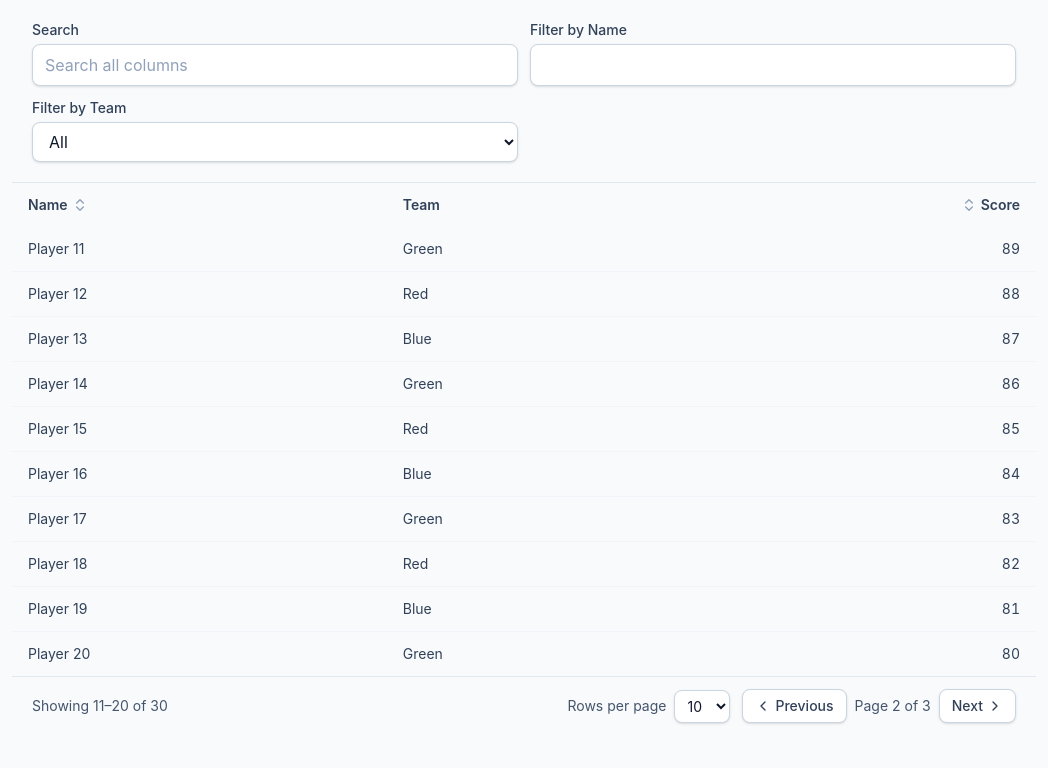
Test case: DataTable › returns to page 1 when a select filter changes
Select "Blue" in the dropdown labelled "Filter by Team". click: (275, 142)
box: [32,122,518,162]
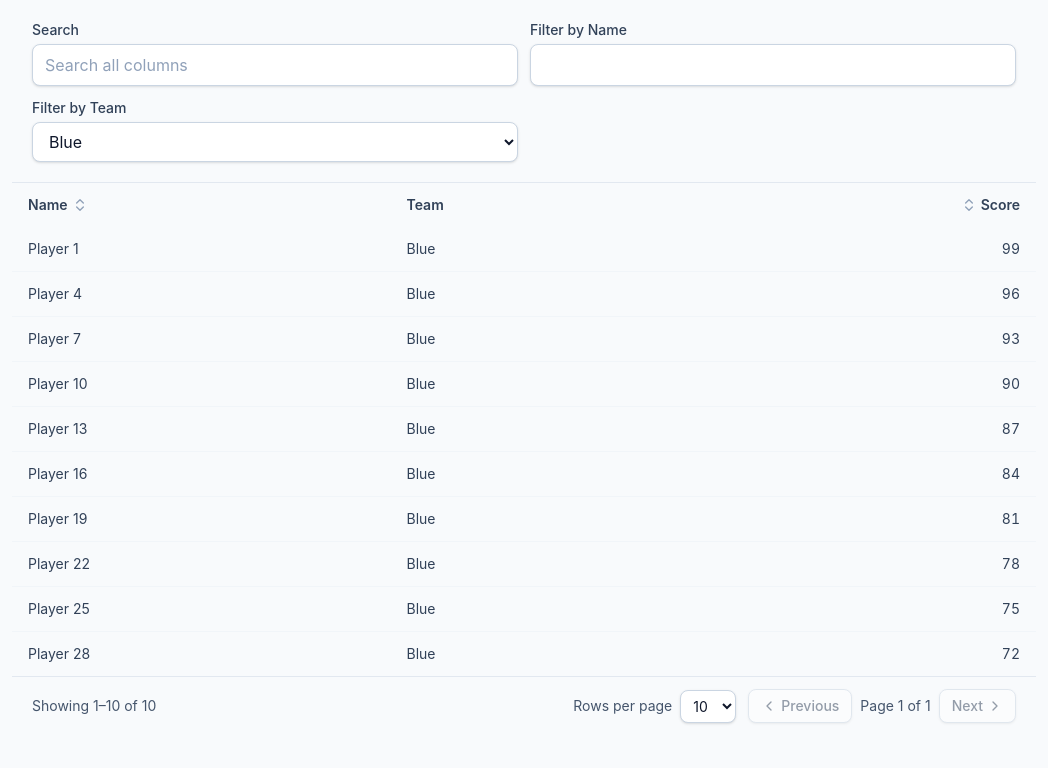
Expected: the text "Page 1 of 1" is shown, [860,696,931,716]
Expected: the message reads "Showing 1–10 of 10", [32,697,156,714]
